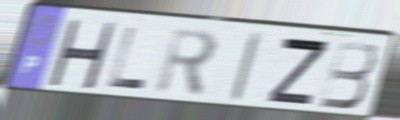B: (316, 39, 379, 111)
H: (45, 17, 118, 92)
I: (227, 31, 264, 104)
L: (105, 25, 149, 92)
R: (153, 25, 221, 100)
Z: (265, 35, 331, 108)
